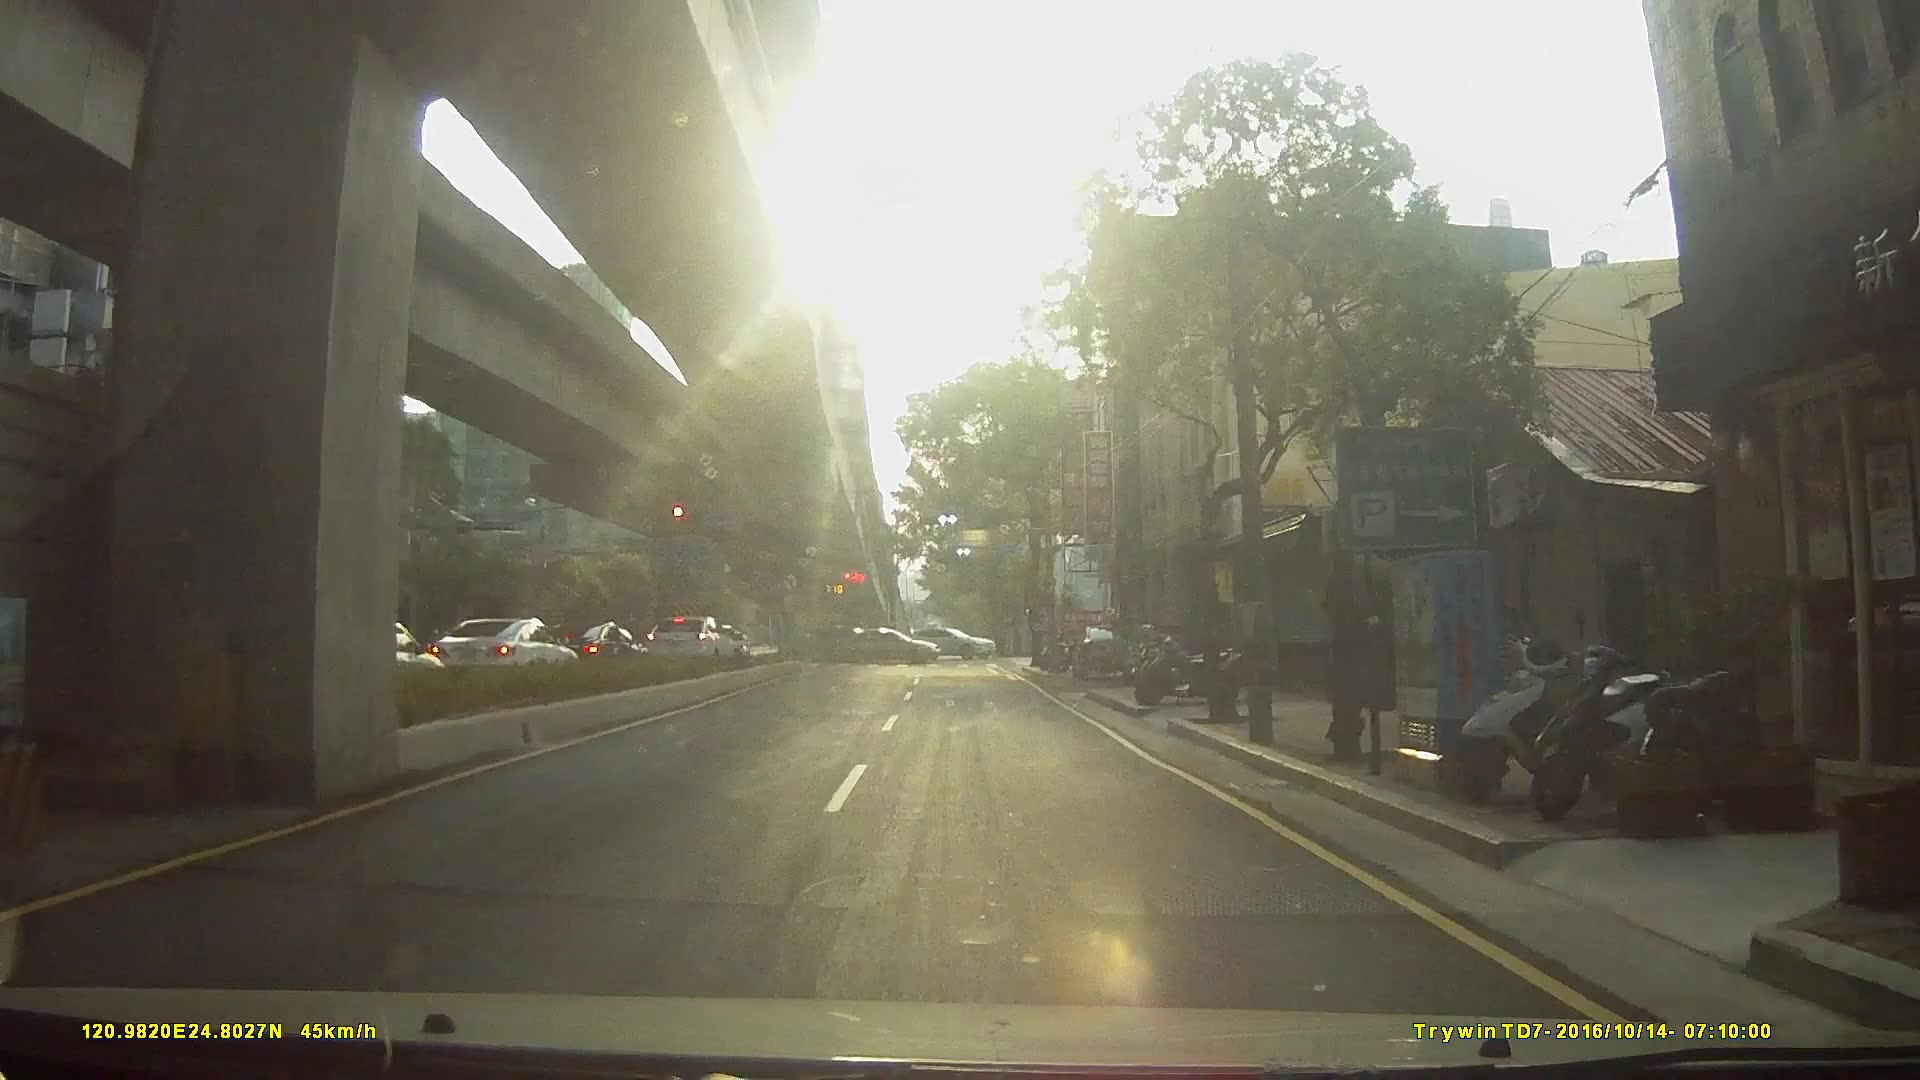vehicle: (417, 617, 572, 688), (533, 620, 646, 676), (640, 616, 741, 669), (841, 625, 948, 663), (1068, 618, 1135, 676), (911, 624, 1002, 659), (806, 624, 884, 665)
